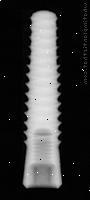Zimmer: (17, 9, 62, 189)
